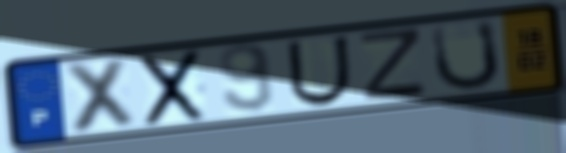9: (217, 42, 278, 119)
U: (428, 17, 504, 94), (283, 33, 353, 109)
X: (61, 55, 138, 137), (138, 46, 208, 130)
Z: (357, 24, 429, 102)
